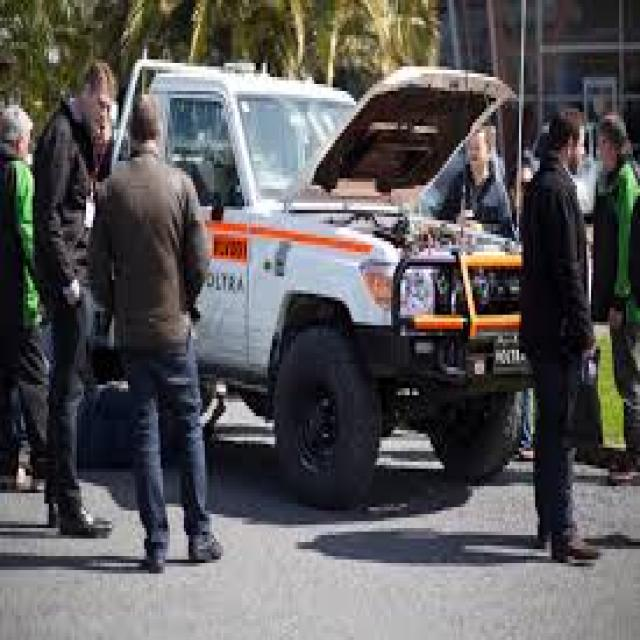light_vehicle: (58, 38, 573, 490)
